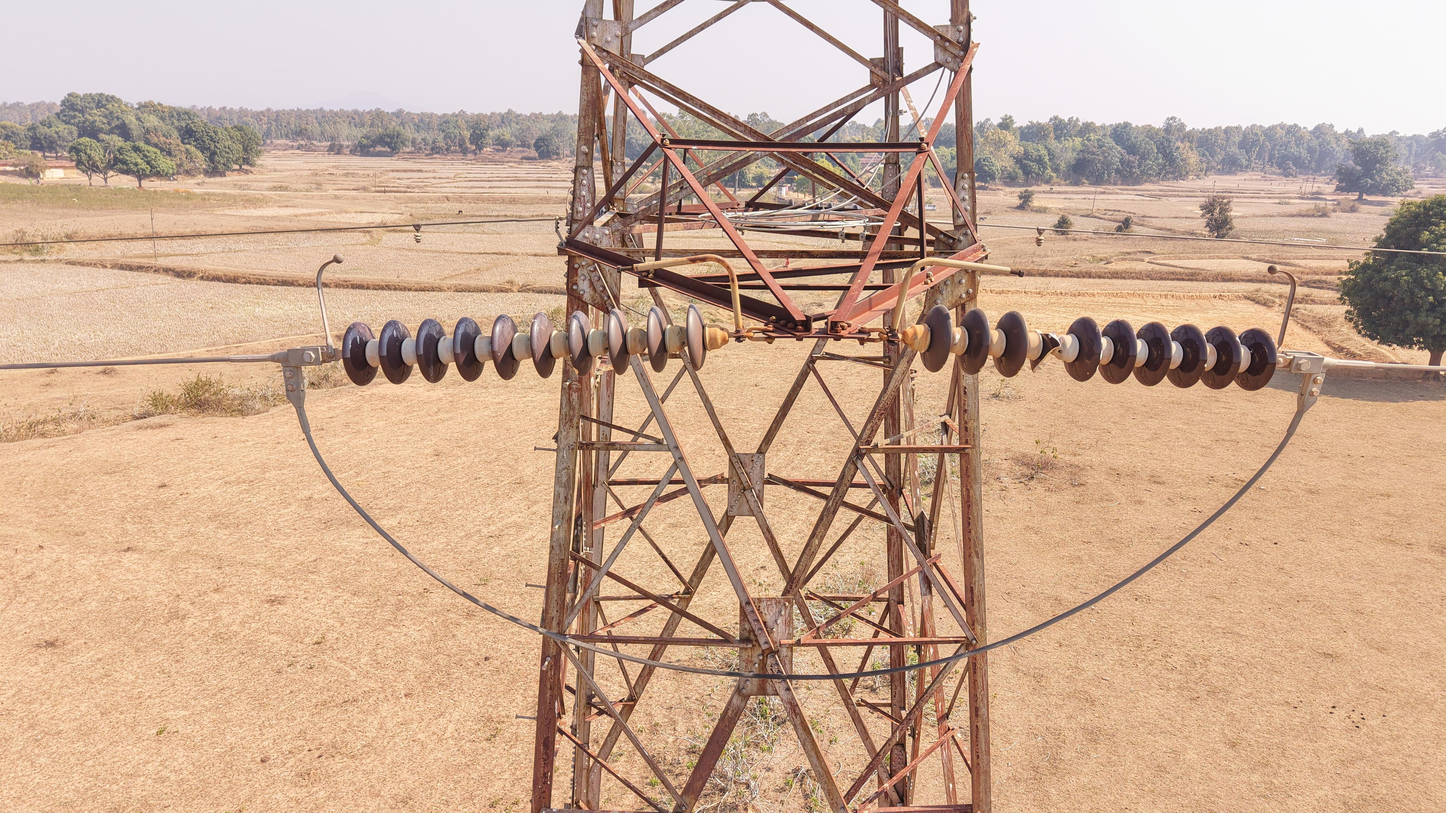broken_insulator: (1027, 322, 1063, 379)
